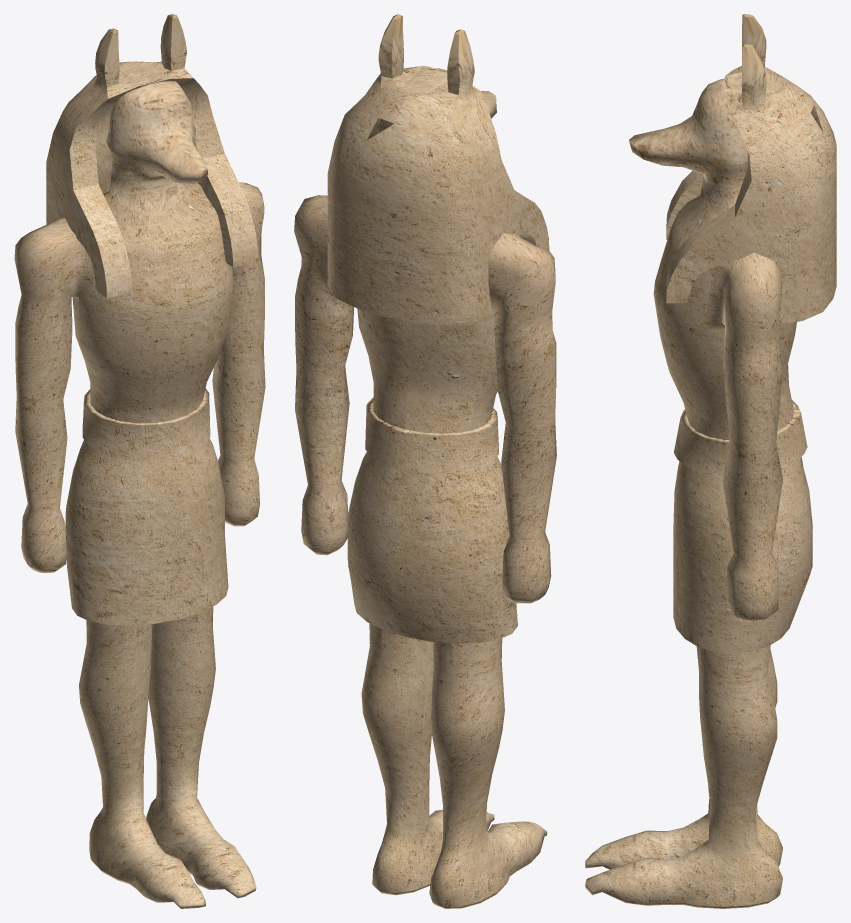
The model's file is Anubi.dae.
3 views of the same model, side by side, from view 1: azimuth 30°, elevation 25°; view 2: azimuth 150°, elevation 25°; view 3: azimuth 270°, elevation 25° (orthographic). The views are drawn at different scales.
Parts seen in each view (by area): view 1: pasted__pCylinder6_ncl1_1; view 2: pasted__pCylinder6_ncl1_1; view 3: pasted__pCylinder6_ncl1_1.
Boxes of the visible parts, bbox=[...] form: pasted__pCylinder6_ncl1_1: bbox=[14, 14, 265, 908]; pasted__pCylinder6_ncl1_1: bbox=[294, 14, 556, 908]; pasted__pCylinder6_ncl1_1: bbox=[585, 14, 836, 908].
Size of the model in its own units: 7.52 by 24.16 by 6.45.
